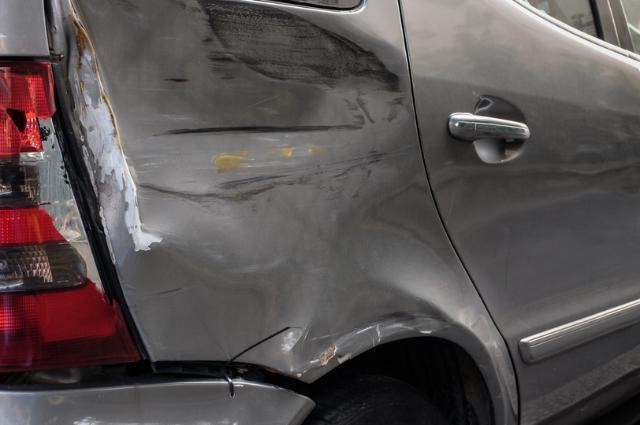Bumper: (0, 362, 328, 425)
Fender: (48, 0, 522, 407)
Light: (0, 57, 153, 368)
